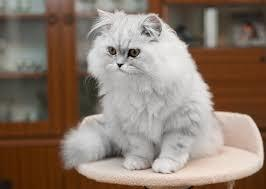cat: (57, 6, 222, 172)
